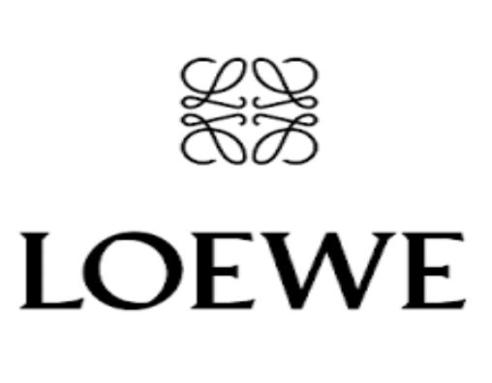LOEWE: (10, 51, 476, 333)
